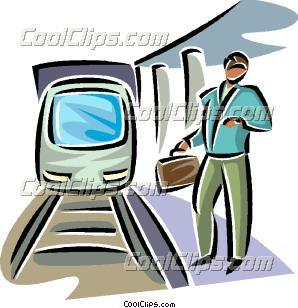person: (185, 44, 271, 278)
train: (24, 71, 141, 199)
